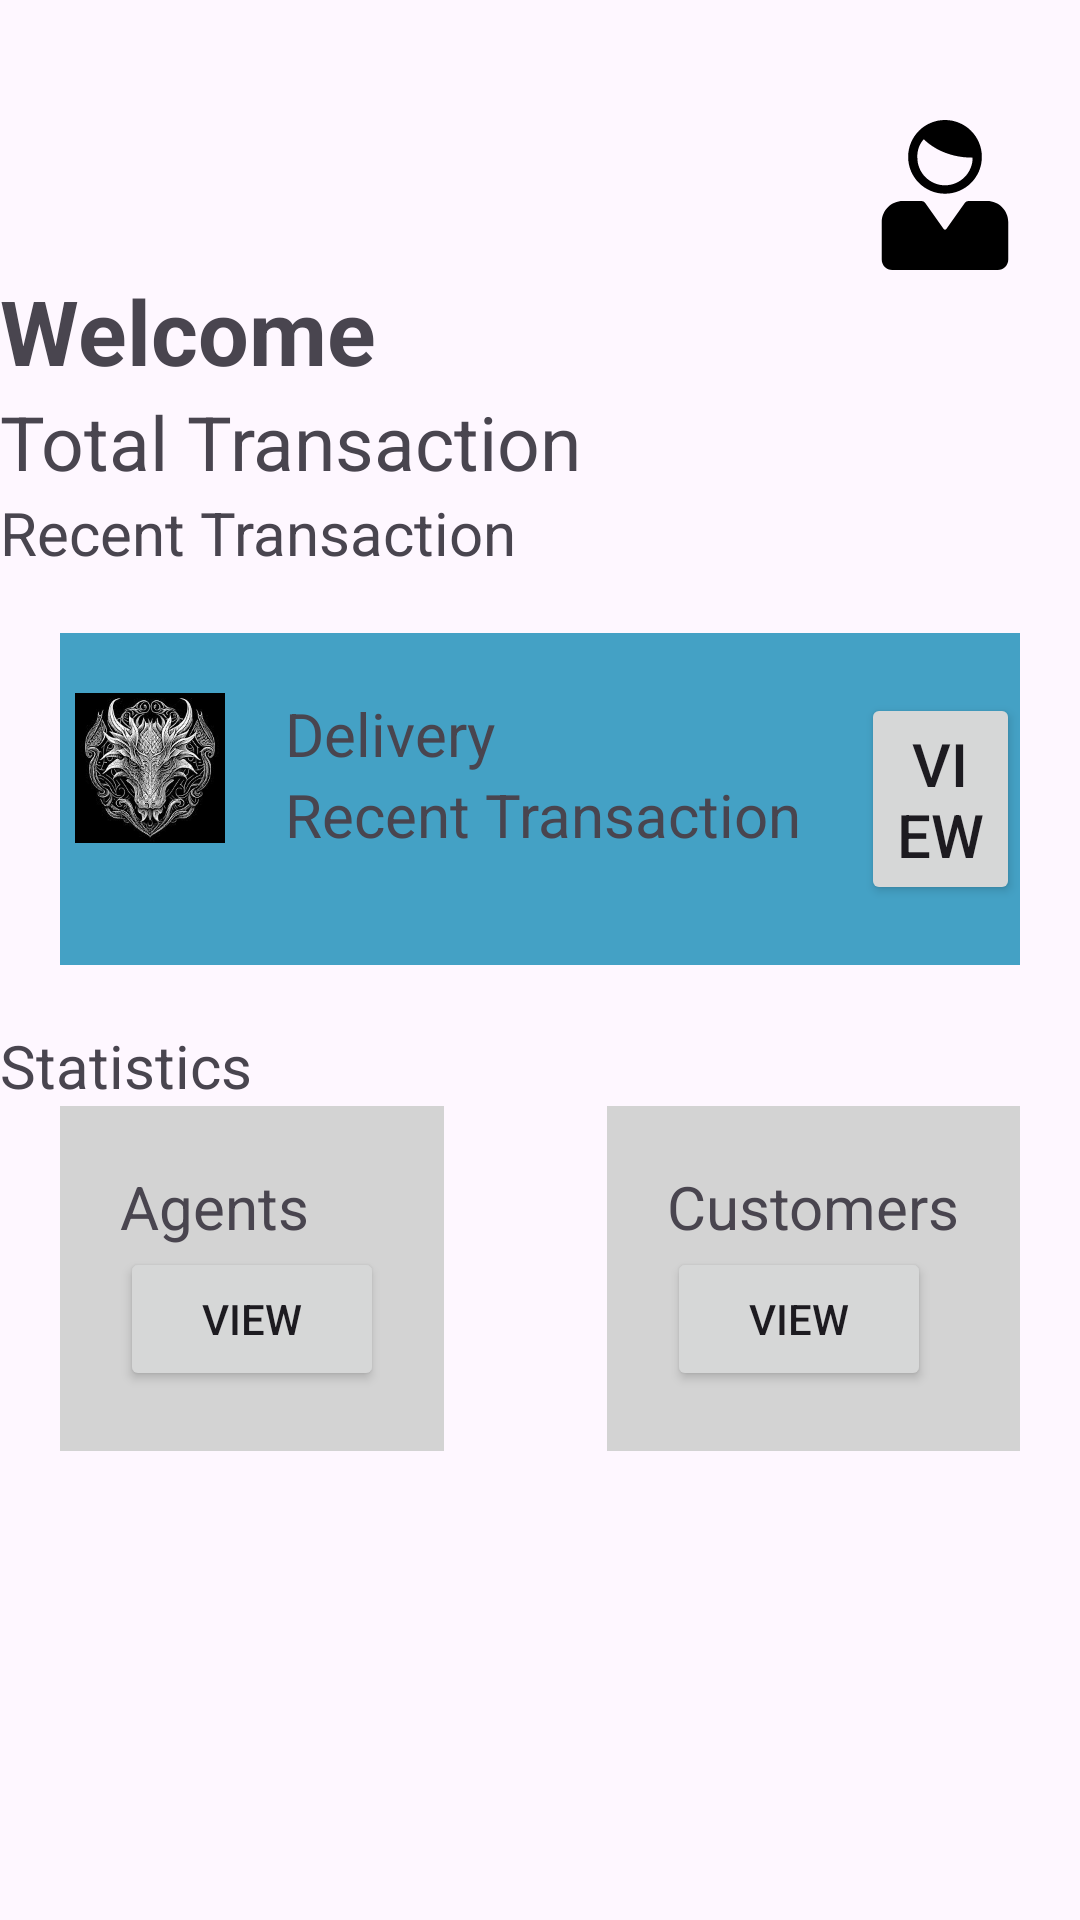

Point at icon controls on the screen. Image size 1080*1920, points as [x,y].
cardimage: [150,768]
profile: [945,195]
